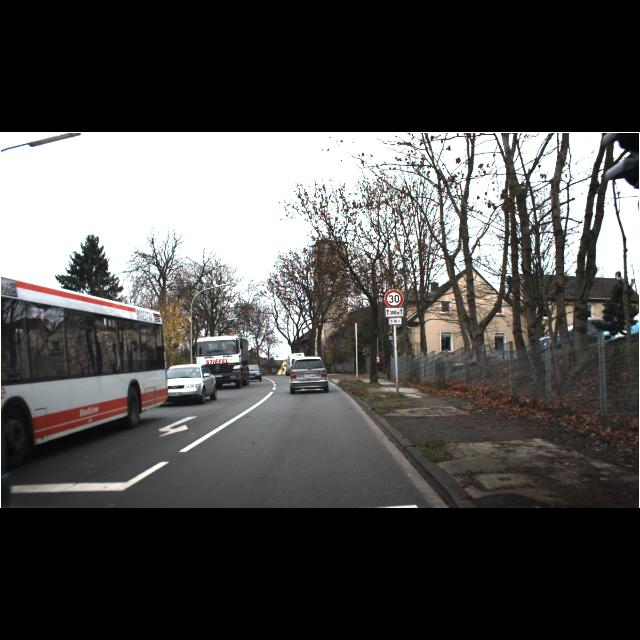prohibitory: (384, 290, 404, 308)
